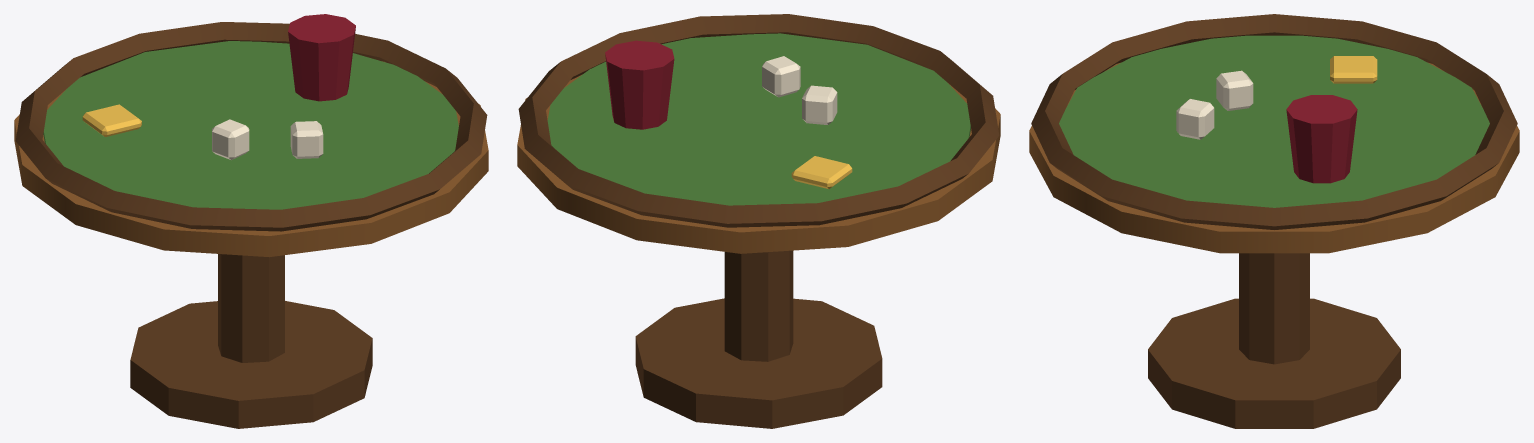
The model's file is PR_Furniture_ZarMasasi.fbx.
3 renders of one model, left to right at view 1: azimuth 30°, elevation 25°; view 2: azimuth 150°, elevation 25°; view 3: azimuth 270°, elevation 25°, orthographic. The views are drawn at different scales.
Parts seen in each view (by area): view 1: PR_Furniture_ZarMasasi; view 2: PR_Furniture_ZarMasasi; view 3: PR_Furniture_ZarMasasi.
Part boxes in pixels (x1=…): PR_Furniture_ZarMasasi: x1=14, y1=14, x2=488, y2=428; PR_Furniture_ZarMasasi: x1=517, y1=14, x2=1000, y2=428; PR_Furniture_ZarMasasi: x1=1029, y1=14, x2=1519, y2=428.
Bounding box in the file's own units: 1.23 × 0.88 × 1.24.
